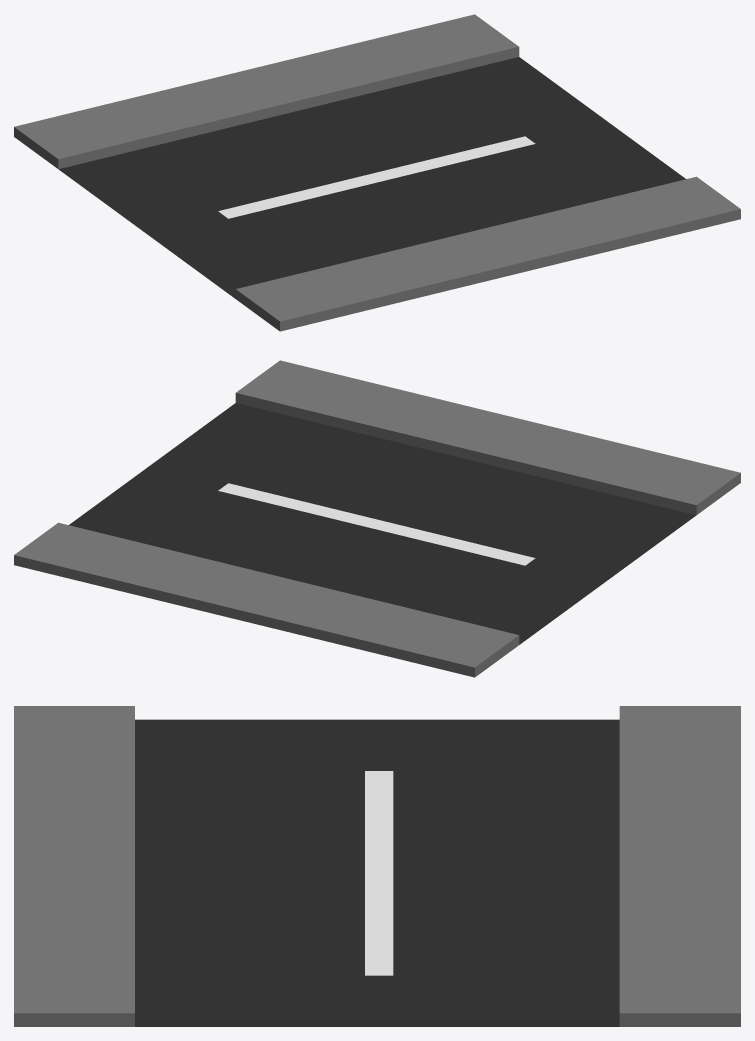
The model's file is RoadStraight.fbx.
The picture shows the model from 3 angles, top to bottom: view 1: azimuth 30°, elevation 25°; view 2: azimuth 150°, elevation 25°; view 3: azimuth 270°, elevation 25°; orthographic projection. The views are drawn at different scales.
Visible parts, largest first — view 1: RoadStraight; view 2: RoadStraight; view 3: RoadStraight.
Part boxes in pixels (x1,y1,x2,y2): RoadStraight: (14,14,740,331); RoadStraight: (14,360,740,677); RoadStraight: (14,706,740,1026).
Size of the model in its own units: 24 by 0.5 by 24.
Materials: 1 (1 with a texture image).
